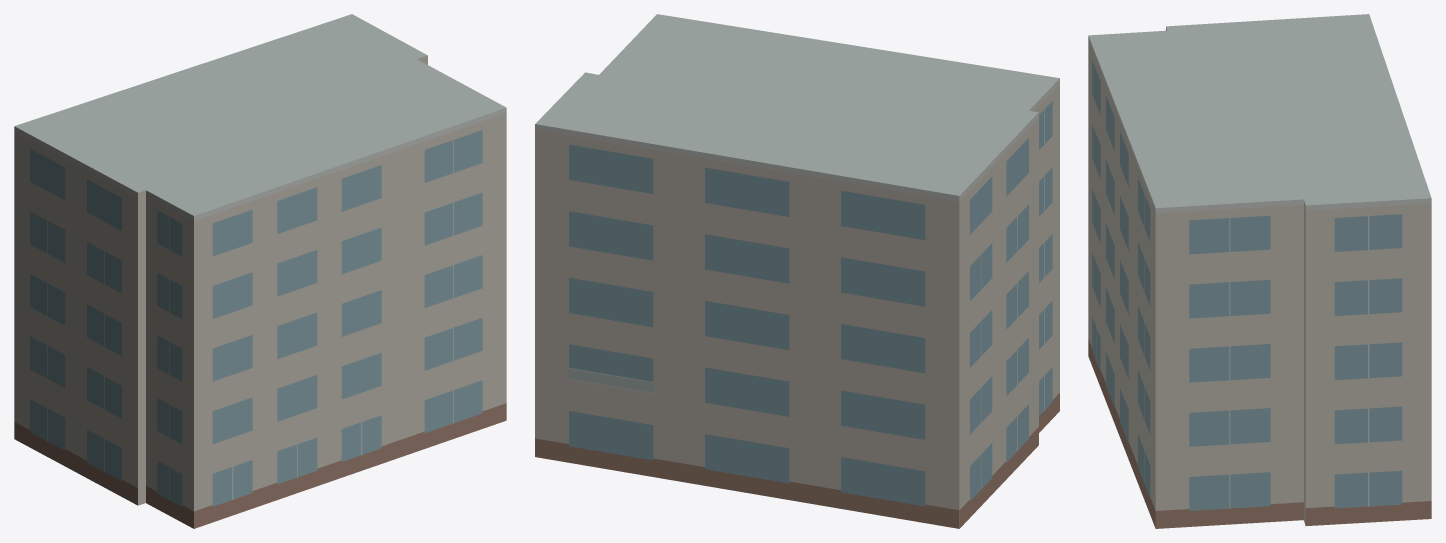
Rendered from survey-upis-32614898.glb.
3 renders of one model, left to right at view 1: azimuth 30°, elevation 25°; view 2: azimuth 150°, elevation 25°; view 3: azimuth 270°, elevation 25°, orthographic. The views are drawn at different scales.
Visible parts, largest first — view 1: survey-upis-32614898.tmp; view 2: survey-upis-32614898.tmp; view 3: survey-upis-32614898.tmp.
Part boxes in pixels (x1,y1,x2,y2): survey-upis-32614898.tmp: (14,14,506,528); survey-upis-32614898.tmp: (535,14,1059,528); survey-upis-32614898.tmp: (1088,14,1431,528).
Bounding box in the file's own units: 18.84 × 14.5 × 14.08.
